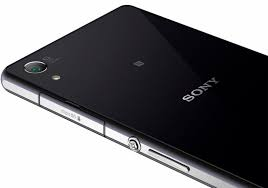sony: (1, 2, 266, 188)
